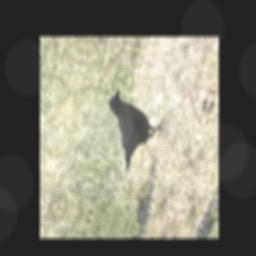Crow: (90, 85, 170, 174)
